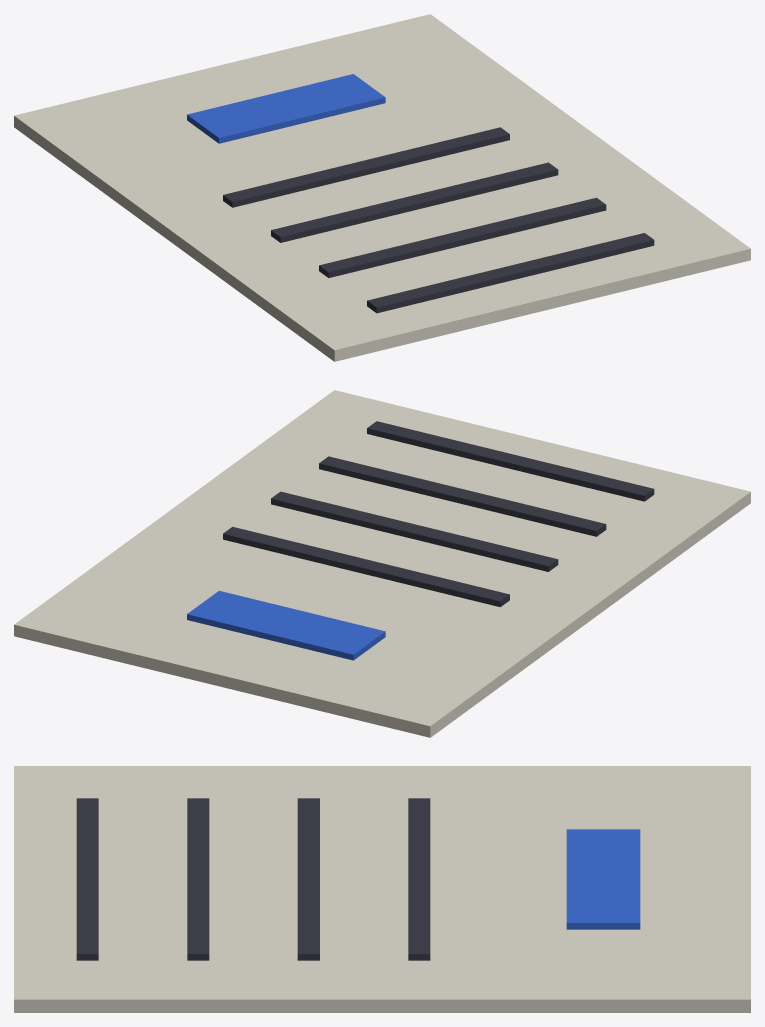
Rendered from ship_receipt.glb.
The picture shows the model from 3 angles, top to bottom: view 1: azimuth 30°, elevation 25°; view 2: azimuth 150°, elevation 25°; view 3: azimuth 270°, elevation 25°; orthographic projection. The views are drawn at different scales.
Parts seen in each view (by area): view 1: sheet_pawn_story_paper, line_pawn_story_ink (×4), ship_receipt_ship; view 2: sheet_pawn_story_paper, line_pawn_story_ink (×4), ship_receipt_ship; view 3: sheet_pawn_story_paper, line_pawn_story_ink (×4), ship_receipt_ship.
Part boxes in pixels (x1,y1,x2,y2): sheet_pawn_story_paper: [14, 14, 750, 361]; line_pawn_story_ink (×4): [223, 127, 654, 313]; ship_receipt_ship: [187, 74, 385, 143]; sheet_pawn_story_paper: [14, 390, 750, 737]; line_pawn_story_ink (×4): [223, 421, 654, 607]; ship_receipt_ship: [187, 590, 385, 660]; sheet_pawn_story_paper: [14, 766, 750, 1012]; line_pawn_story_ink (×4): [76, 798, 430, 960]; ship_receipt_ship: [566, 829, 640, 929].
Bounding box in the file's own units: 0.15 × 0.006 × 0.2.
